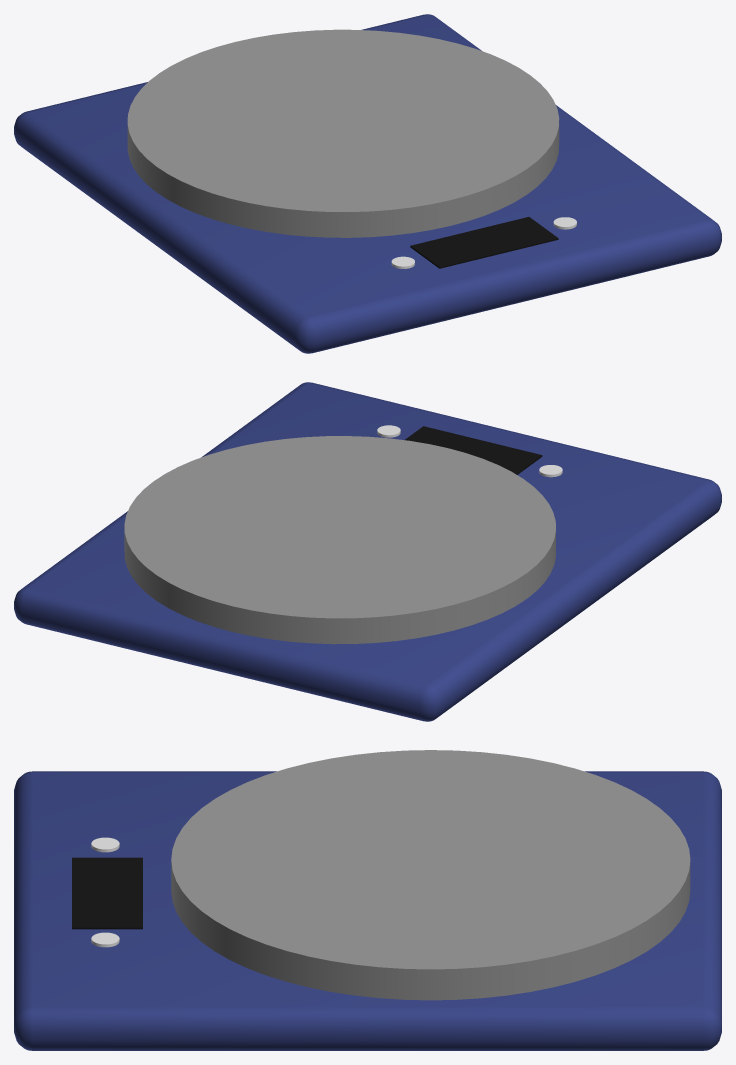
File: scales.FBX
3 renders of one model, top to bottom at view 1: azimuth 30°, elevation 25°; view 2: azimuth 150°, elevation 25°; view 3: azimuth 270°, elevation 25°, orthographic. The views are drawn at different scales.
Parts seen in each view (by area): view 1: cup, Osnov, Display; view 2: cup, Osnov, Display; view 3: cup, Osnov, Display.
Part boxes in pixels (<box>): cup: <box>127,29,559,237</box>; Osnov: <box>14,14,721,353</box>; Display: <box>410,217,558,268</box>; cup: <box>124,436,555,644</box>; Osnov: <box>14,382,721,721</box>; Display: <box>404,426,542,474</box>; cup: <box>171,750,690,1000</box>; Osnov: <box>14,771,721,1050</box>; Display: <box>72,857,142,929</box>.
Bounding box in the file's own units: 250 × 34.47 × 300.
